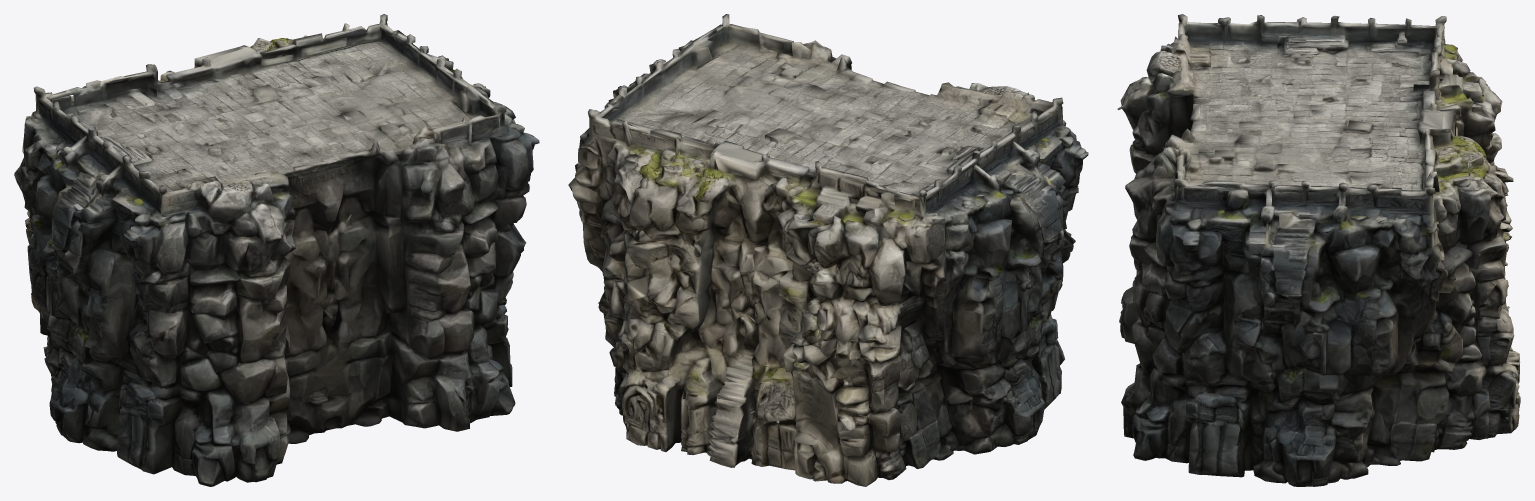
File: terrain.glb
3 views of the same model, side by side, from view 1: azimuth 30°, elevation 25°; view 2: azimuth 150°, elevation 25°; view 3: azimuth 270°, elevation 25° (orthographic).
Parts seen in each view (by area): view 1: H30 terrain render-only LOD; view 2: H30 terrain render-only LOD; view 3: H30 terrain render-only LOD.
Part boxes in pixels (box(x1,y1,x2,y2)): H30 terrain render-only LOD: box(14, 14, 539, 486); H30 terrain render-only LOD: box(568, 14, 1088, 486); H30 terrain render-only LOD: box(1117, 14, 1520, 486).
Size of the model in its own units: 0.9779 by 0.6051 by 0.7627.
1 material, 1 textured.
